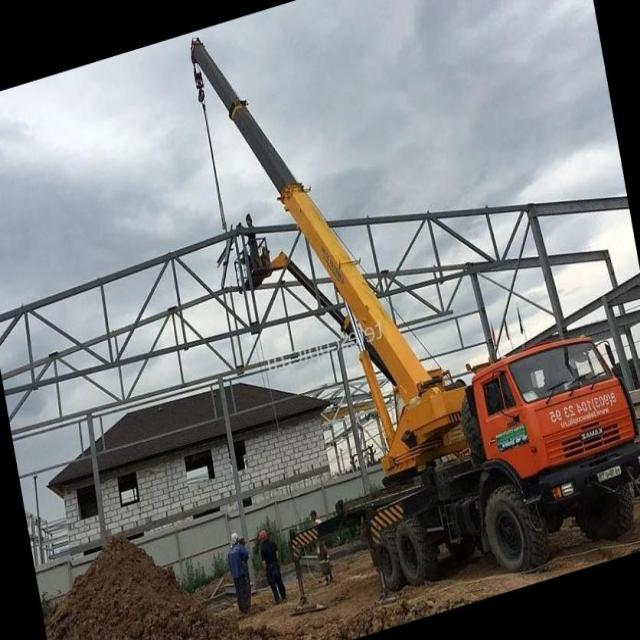crane: (183, 0, 640, 640)
